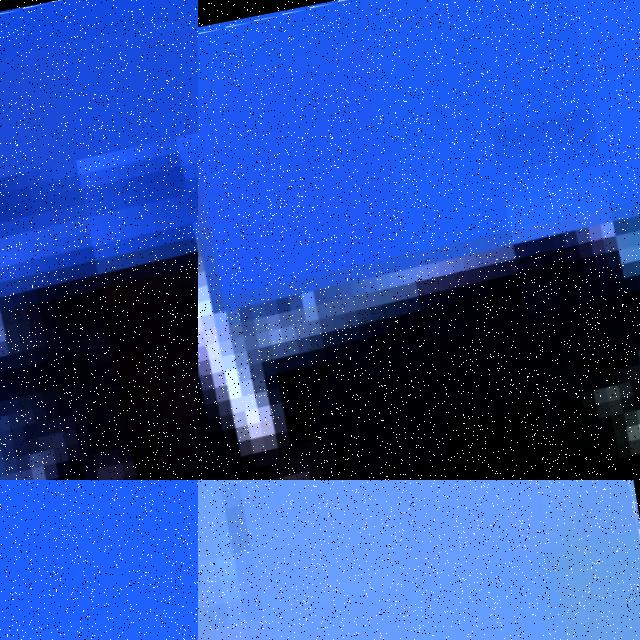drone: (198, 0, 640, 480), (0, 0, 198, 480), (198, 480, 640, 640)
